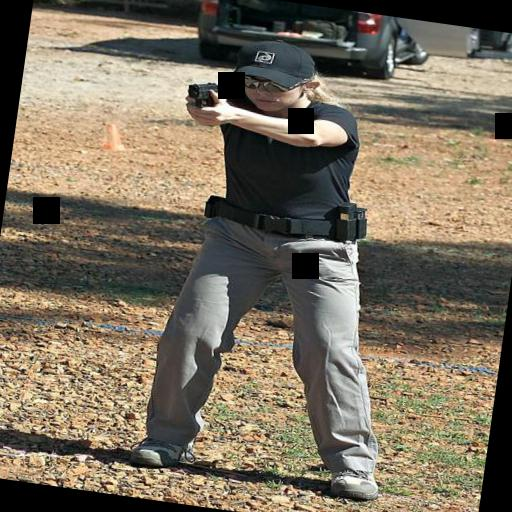Handgun: (180, 74, 228, 114)
